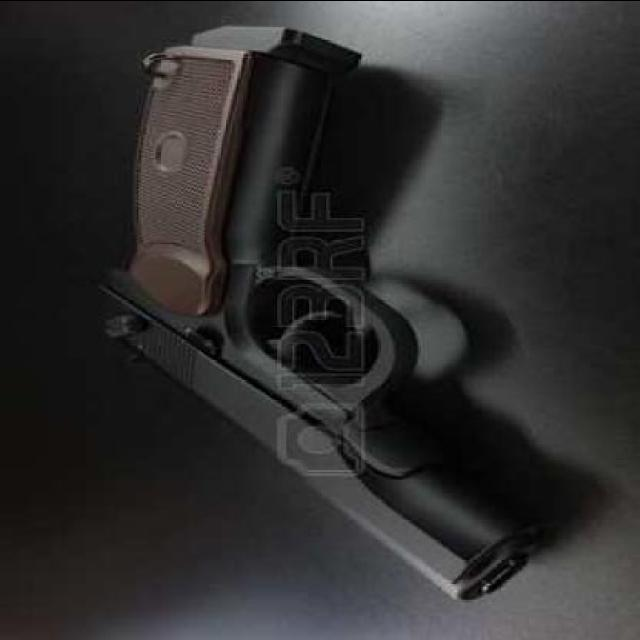pistol: (94, 24, 552, 602)
